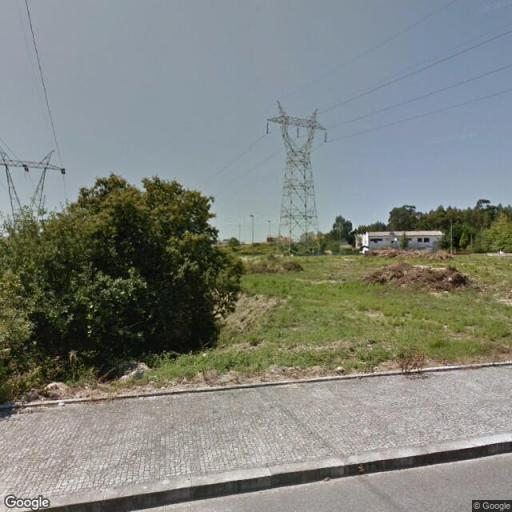wt_5: (263, 99, 334, 254)
wt_6: (1, 146, 69, 224)
